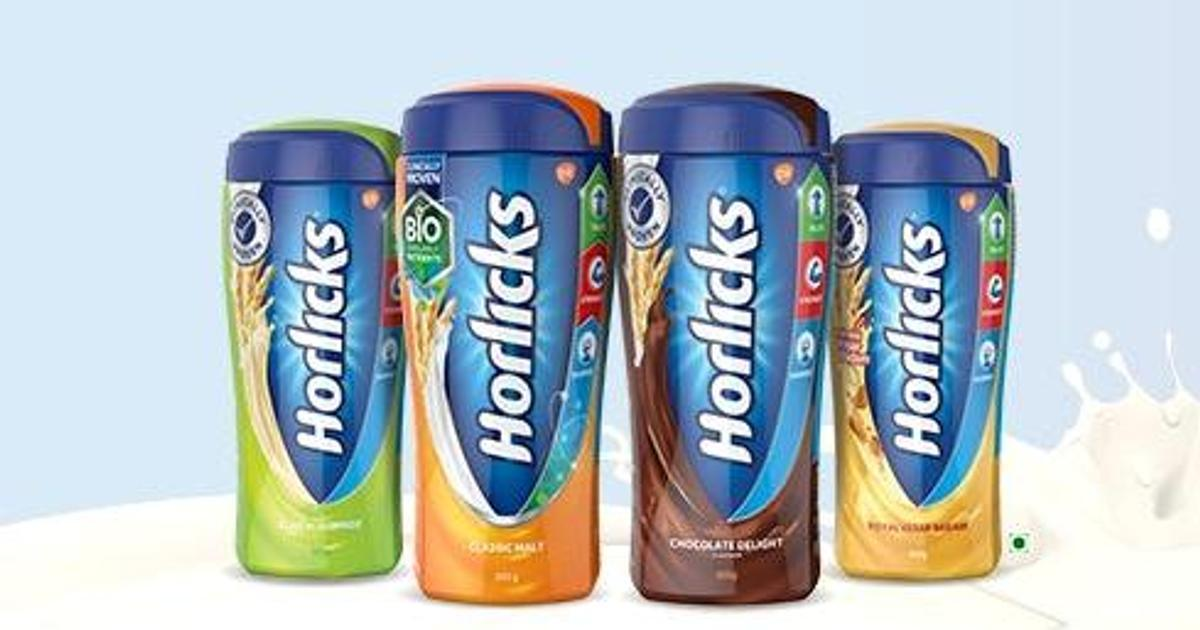VEG: (1006, 528, 1030, 556)
